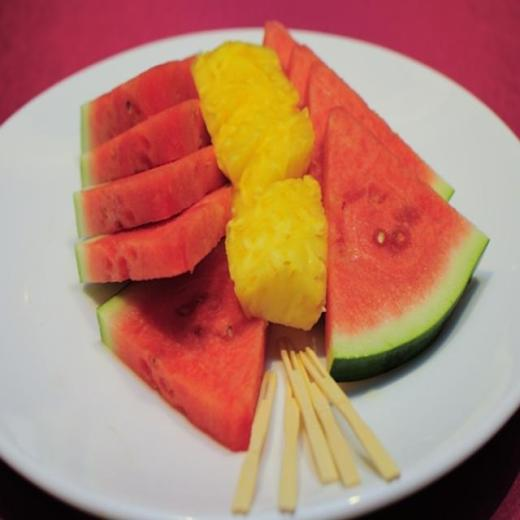Cherry: (70, 21, 491, 452)
